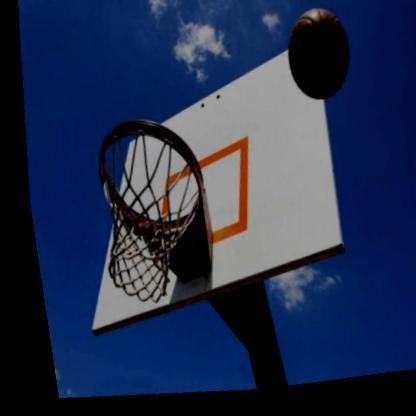basketball: (276, 11, 355, 113)
rim: (76, 113, 215, 314)
